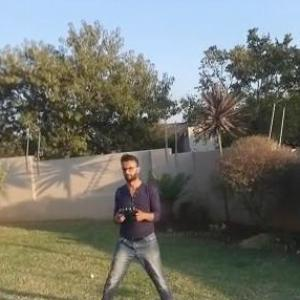follow: (98, 150, 178, 299)
